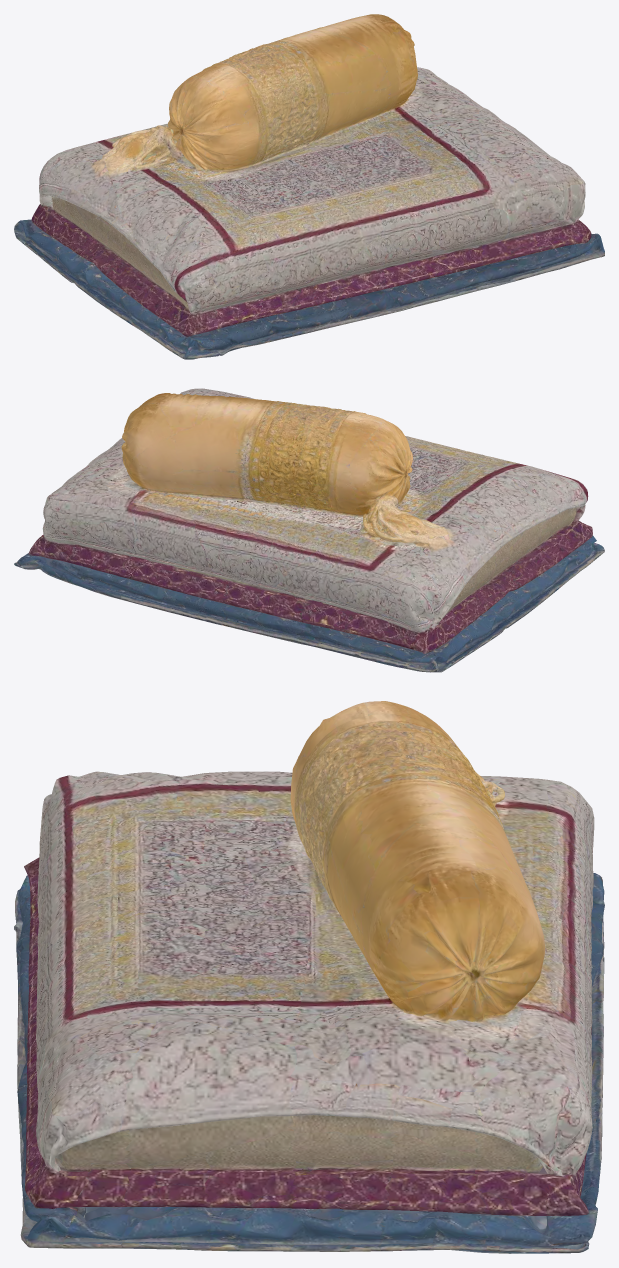
File: daybed.glb
The picture shows the model from 3 angles, top to bottom: view 1: azimuth 30°, elevation 25°; view 2: azimuth 150°, elevation 25°; view 3: azimuth 270°, elevation 25°; orthographic projection. The views are drawn at different scales.
Bounding box in the file's own units: 1.9 × 0.7653 × 1.3.
1 material, 1 textured.
